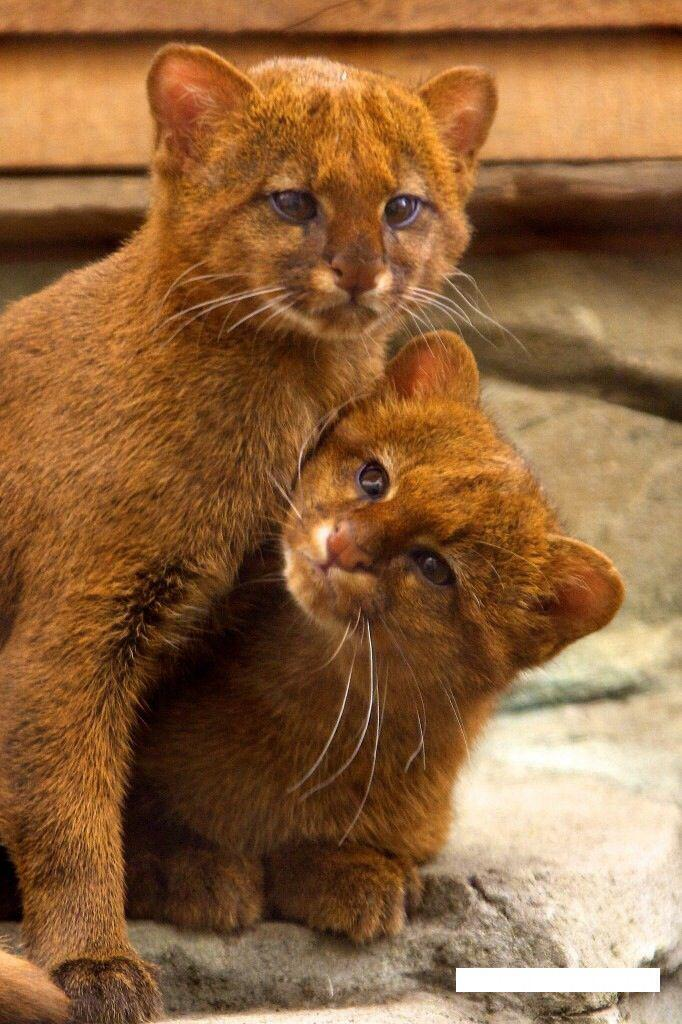Jaguarundi: (243, 306, 626, 923), (29, 43, 515, 372)
